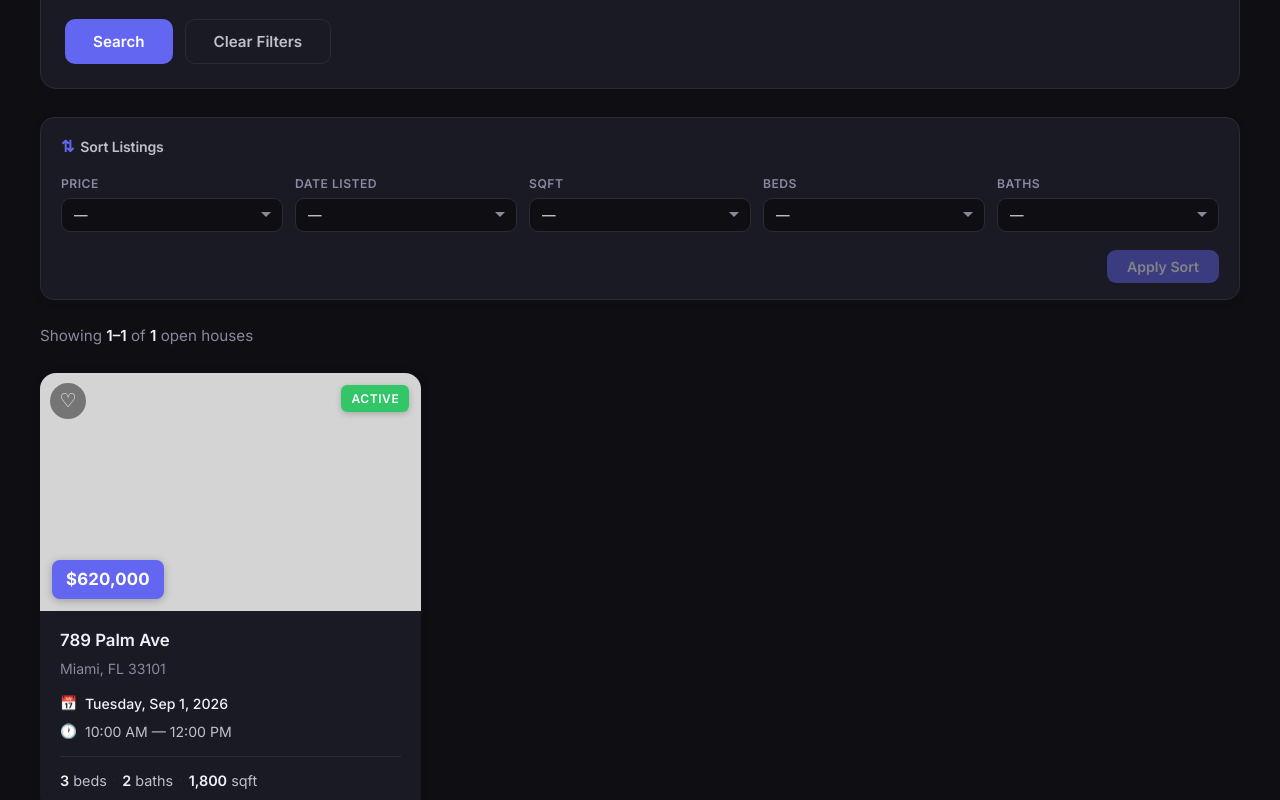
Test: Heart Favorite Component Across Pages › OpenHousesPage › renders heart button on open house cards and toggles favorite in localStorage
The image size is (1280, 800).
(page scrolled)
Click the button named "add to favorites".
click(68, 401)  # box [50, 383, 86, 419]
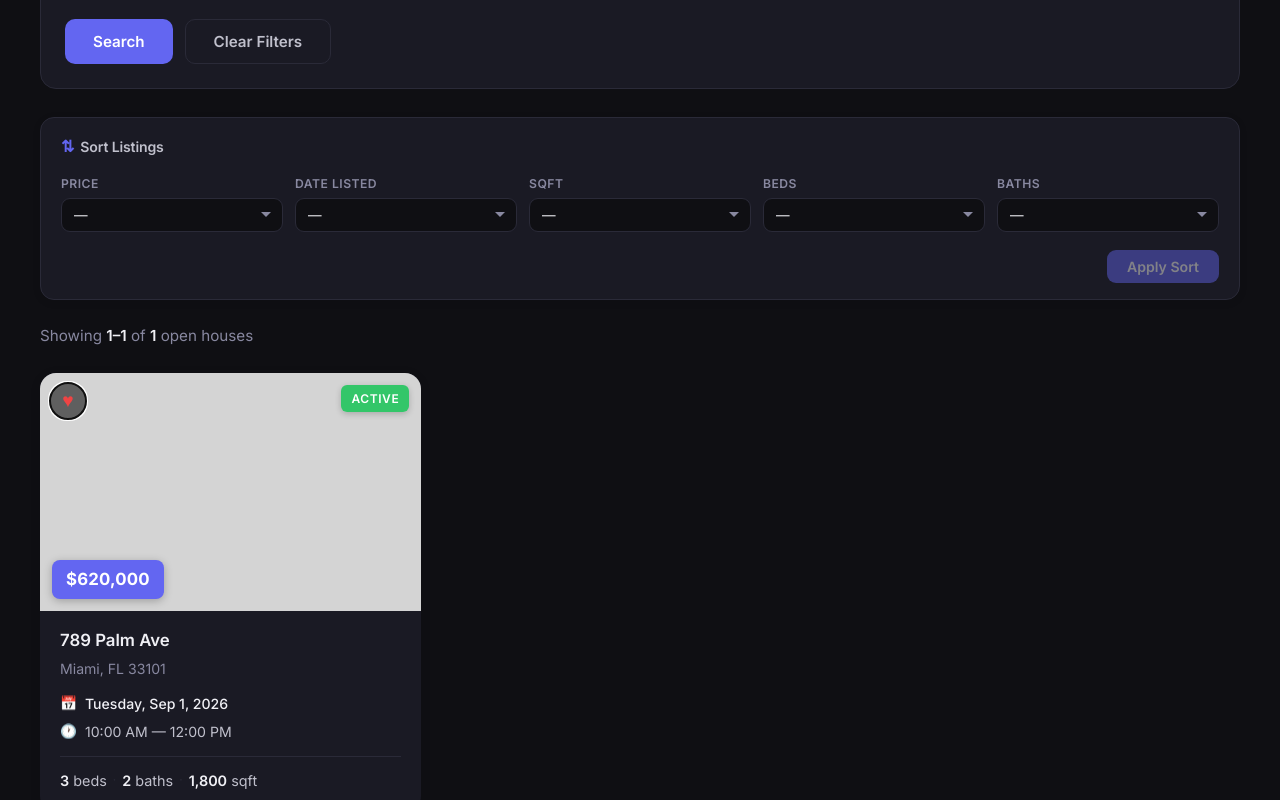
Expected: the button named "remove from favorites" reads "♥", [50, 383, 86, 419]
